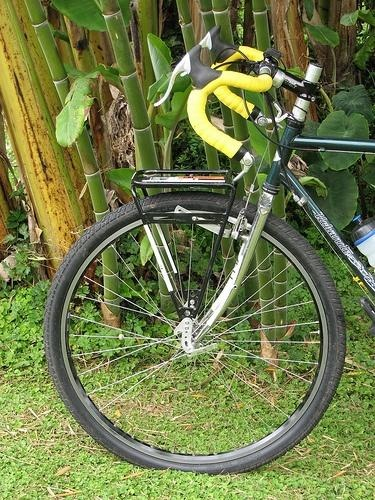bicycle: (43, 24, 375, 476)
